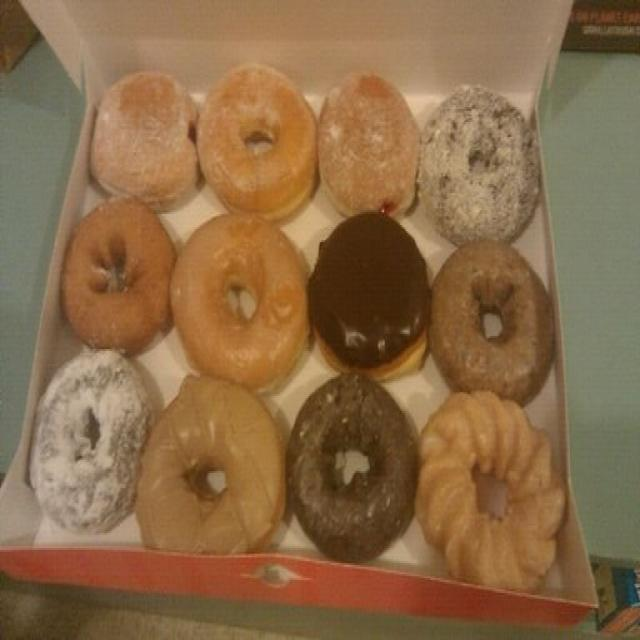Donuts: (53, 68, 572, 588)
